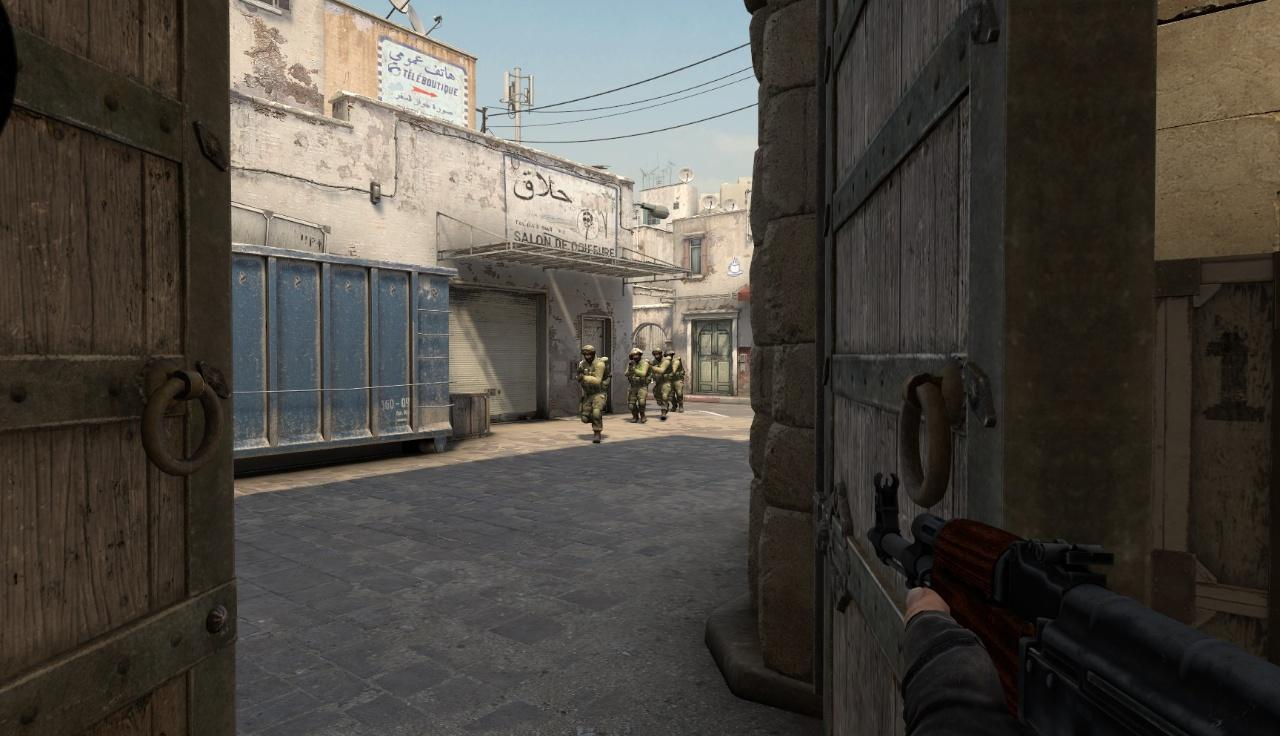ct: (576, 345, 610, 445), (626, 348, 651, 427), (651, 348, 671, 420), (667, 349, 685, 413)
cthead: (582, 346, 595, 362), (630, 348, 641, 362), (653, 348, 662, 360), (666, 350, 674, 358)
rifle: (868, 469, 1280, 736)
